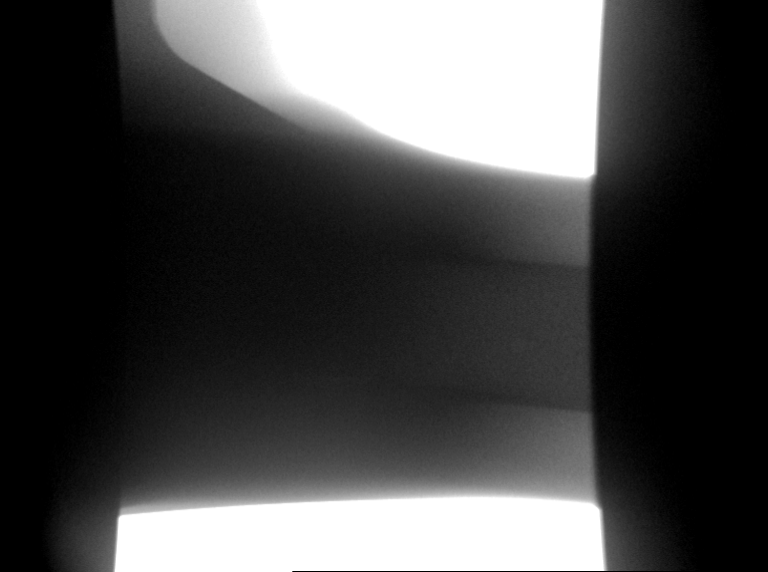defect: (504, 334, 535, 356)
